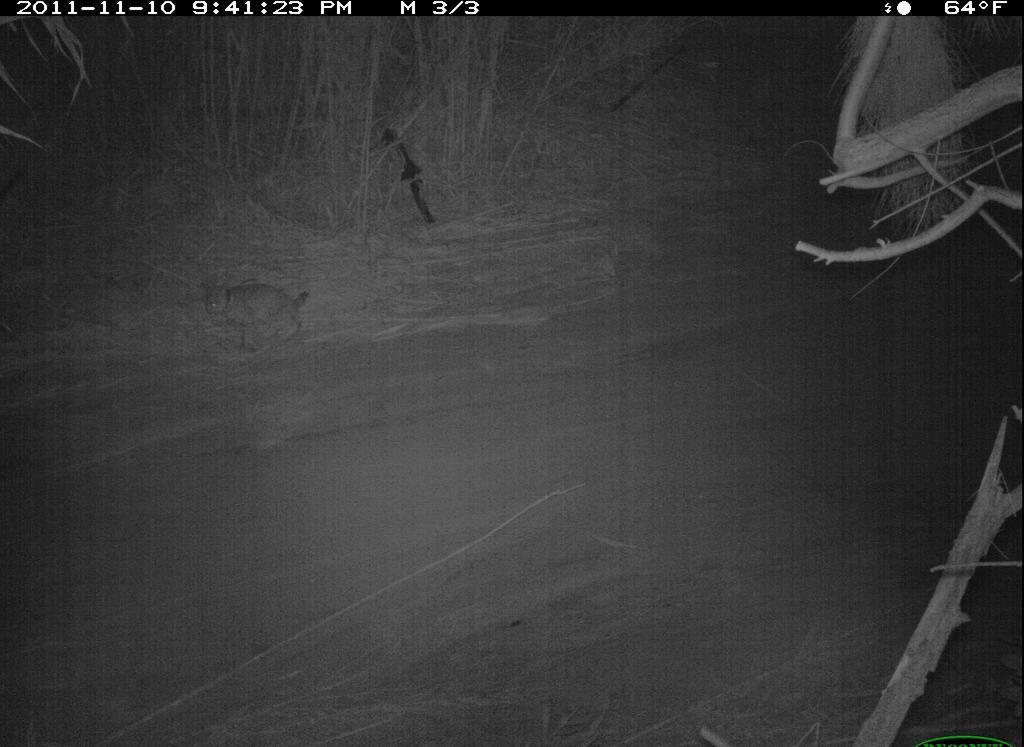bobcat: (196, 267, 328, 365)
